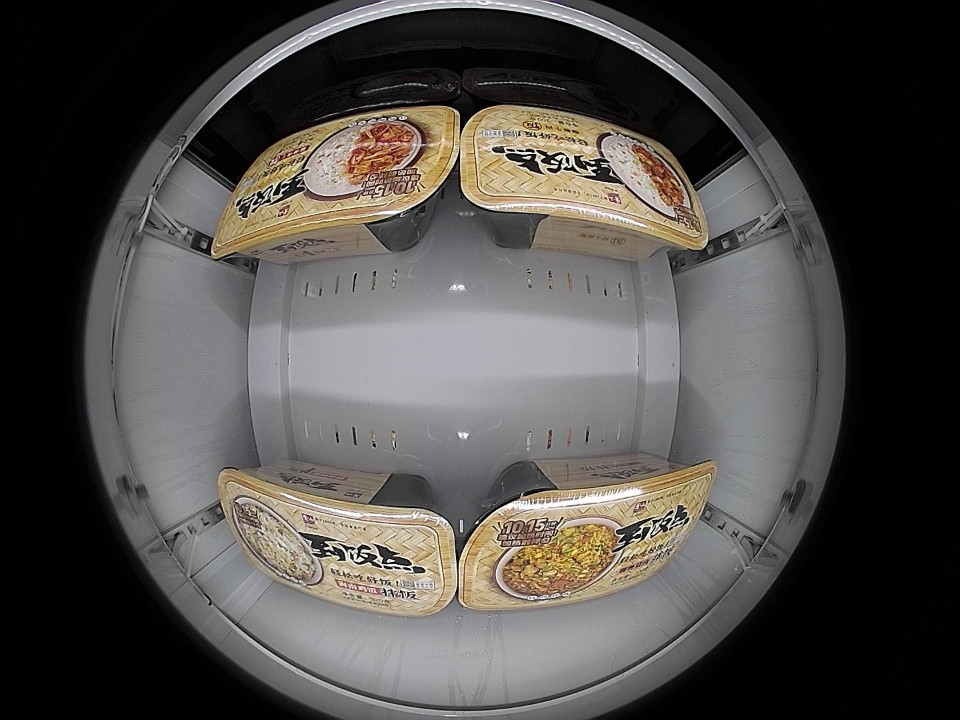daofandian1: (218, 464, 458, 616)
daofandian2: (460, 105, 709, 258)
daofandian3: (460, 456, 720, 605)
daofandian4: (212, 104, 461, 261)
